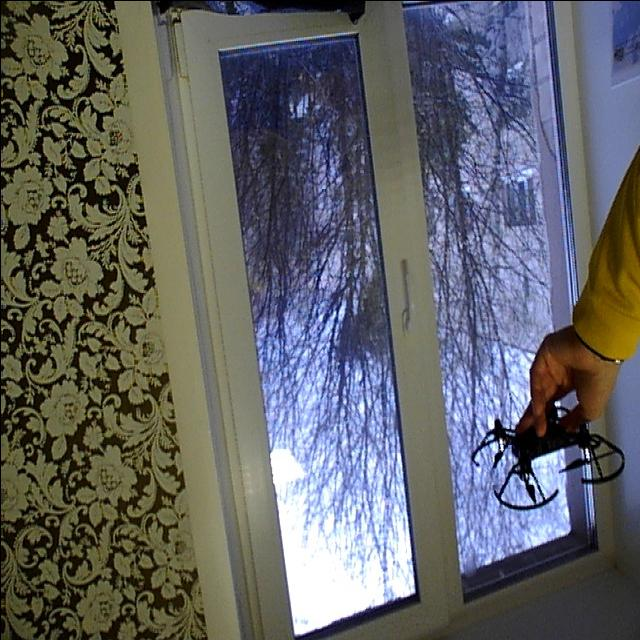drone: (465, 398, 627, 519)
